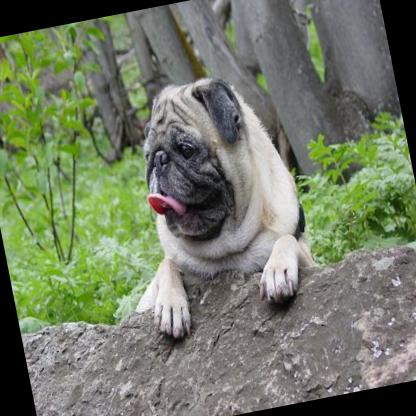pug: (95, 63, 319, 341)
